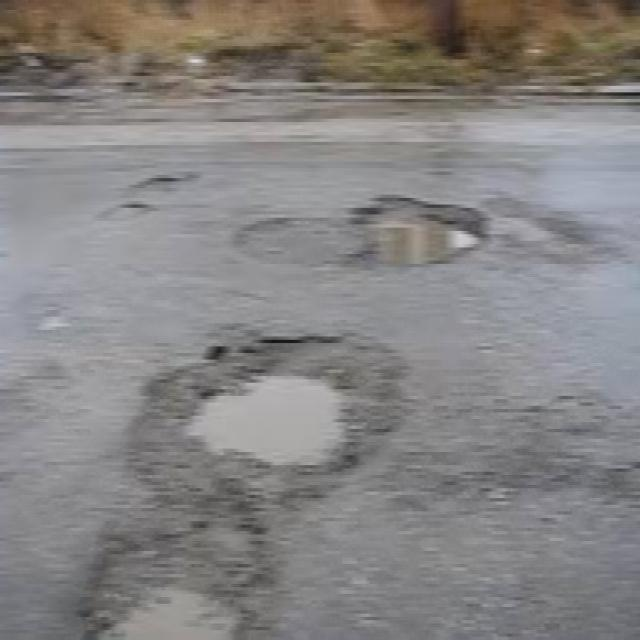Pothole: (136, 328, 404, 507), (72, 502, 275, 640), (350, 182, 499, 268), (220, 203, 348, 276), (120, 172, 208, 192), (94, 201, 152, 223)
